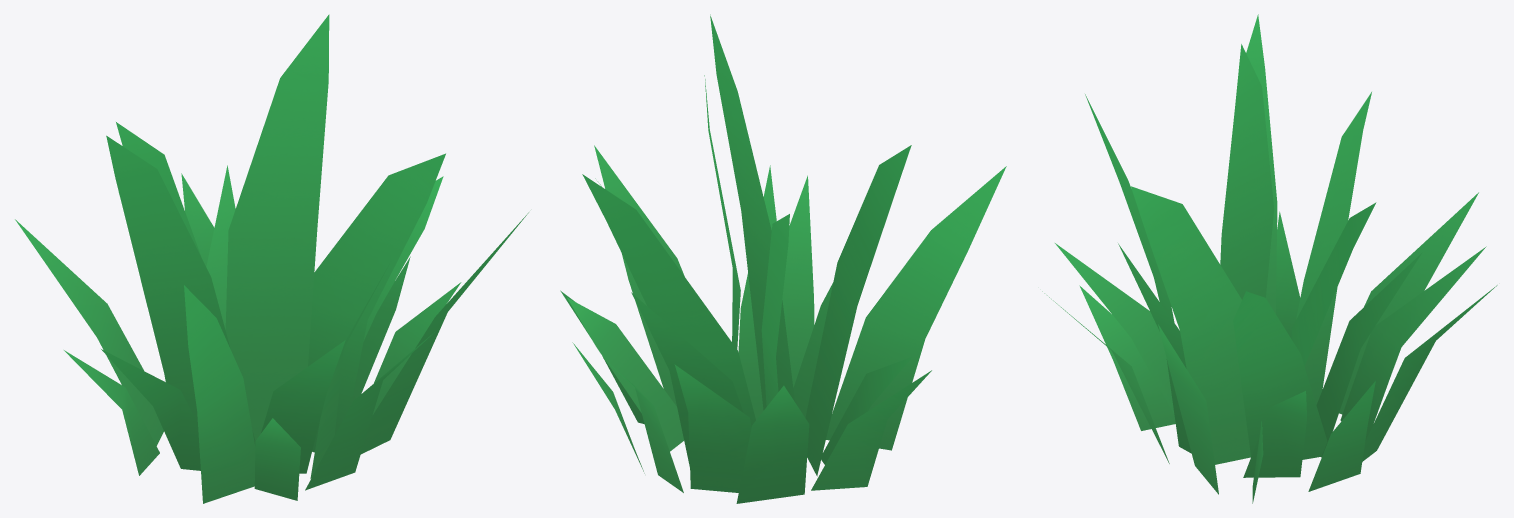
Rendered from Forest_Grass_01.gltf.
The picture shows the model from 3 angles, left to right: view 1: azimuth 30°, elevation 25°; view 2: azimuth 150°, elevation 25°; view 3: azimuth 270°, elevation 25°; orthographic projection. The views are drawn at different scales.
Visible parts, largest first — view 1: Forest_Grass_01; view 2: Forest_Grass_01; view 3: Forest_Grass_01.
Boxes of the visible parts, x1,y1,x2,y2 form: Forest_Grass_01: [15, 14, 528, 503]; Forest_Grass_01: [560, 14, 1006, 503]; Forest_Grass_01: [1042, 14, 1497, 503].
Bounding box in the file's own units: 0.3373 × 0.34 × 0.335.
Materials: 1 (1 with a texture image).
